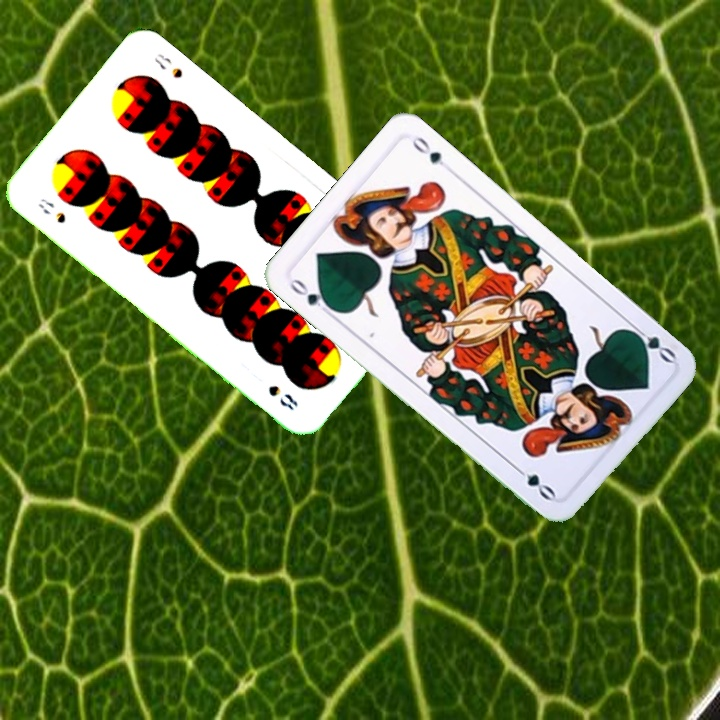GO: (624, 320, 678, 366), (285, 274, 337, 314)
S8: (34, 194, 69, 226)
